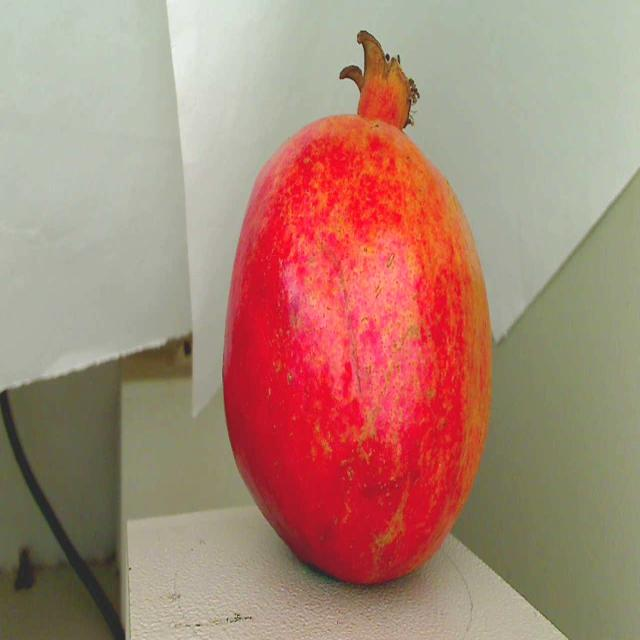pomegranate: (215, 16, 500, 610)
